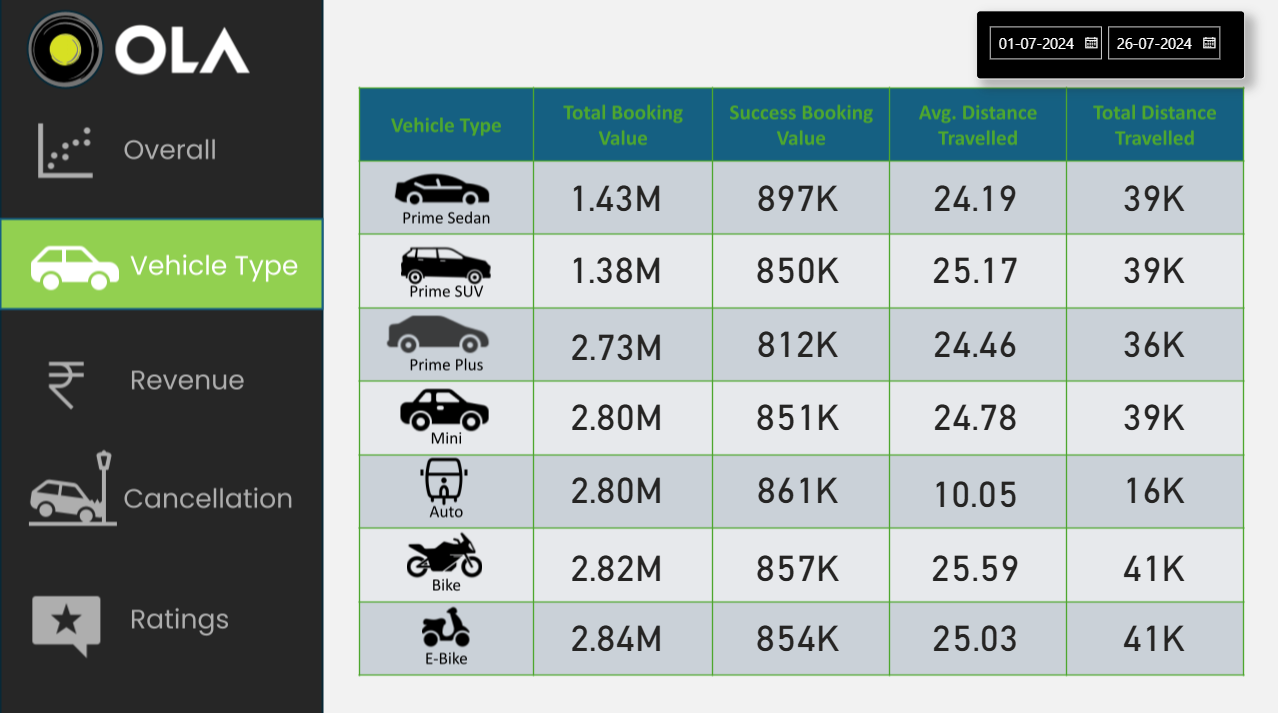

Layout of this report page (visuals, bound fields, positions):
{"tool":"powerbi","page":{"name":"Vehicle Type","canvas":[1280,720],"ordinal":1},"visuals":[{"type":"actionButton","box":[0,337.8,322.1,92.9],"z":0},{"type":"actionButton","box":[1.2,450,322.1,92.9],"z":1000},{"type":"actionButton","box":[1.2,337.8,322.1,92.9],"z":2000},{"type":"actionButton","box":[1.2,446.4,322.1,92.9],"z":3000},{"type":"actionButton","box":[2.4,579.1,320.9,88.1],"z":4000},{"type":"actionButton","box":[0,106.2,320.9,94.1],"z":5000},{"type":"card","fields":{"Values":["Sum(July.Booking_Value)"]},"box":[542.9,168.9,146,62.7],"z":6000},{"type":"card","fields":{"Values":["Sum(July.Booking_Value)"]},"box":[542.9,241.3,146,62.7],"z":7000},{"type":"card","fields":{"Values":["Sum(July.Booking_Value)"]},"box":[543.4,315.6,145.5,68.6],"z":8000},{"type":"card","fields":{"Values":["Sum(July.Booking_Value)"]},"box":[543.4,387,145.5,63.1],"z":9000},{"type":"card","fields":{"Values":["Sum(July.Booking_Value)"]},"box":[543.4,461.1,145.5,63.1],"z":10000},{"type":"card","fields":{"Values":["Sum(July.Booking_Value)"]},"box":[543.4,539.3,145.5,63.1],"z":11000},{"type":"card","fields":{"Values":["Sum(July.Booking_Value)"]},"box":[543.4,603.8,145.5,72.7],"z":12000},{"type":"card","fields":{"Values":["Sum(July.Booking_Value)"]},"box":[724.5,168.8,145.5,63.1],"z":13000},{"type":"card","fields":{"Values":["Sum(July.Booking_Value)"]},"box":[724.5,241.5,145.5,63.1],"z":14000},{"type":"card","fields":{"Values":["Sum(July.Booking_Value)"]},"box":[724.5,315.6,145.5,63.1],"z":15000},{"type":"card","fields":{"Values":["Sum(July.Booking_Value)"]},"box":[724.5,387,145.5,63.1],"z":16000},{"type":"card","fields":{"Values":["Sum(July.Booking_Value)"]},"box":[724.5,461.1,145.5,63.1],"z":17000},{"type":"card","fields":{"Values":["Sum(July.Booking_Value)"]},"box":[724.5,539.3,145.5,63.1],"z":18000},{"type":"card","fields":{"Values":["Sum(July.Booking_Value)"]},"box":[724.5,609.3,145.5,63.1],"z":19000},{"type":"card","fields":{"Values":["Avg(July.Ride_Distance)"]},"box":[902.9,168.8,145.5,63.1],"z":20000},{"type":"card","fields":{"Values":["Avg(July.Ride_Distance)"]},"box":[902.9,241.5,145.5,63.1],"z":21000},{"type":"card","fields":{"Values":["Avg(July.Ride_Distance)"]},"box":[902.9,315.6,145.5,63.1],"z":22000},{"type":"card","fields":{"Values":["Avg(July.Ride_Distance)"]},"box":[902.9,387,145.5,63.1],"z":23000},{"type":"card","fields":{"Values":["Avg(July.Ride_Distance)"]},"box":[902.9,465.2,145.5,63.1],"z":24000},{"type":"card","fields":{"Values":["Avg(July.Ride_Distance)"]},"box":[902.9,539.3,145.5,63.1],"z":25000},{"type":"card","fields":{"Values":["Avg(July.Ride_Distance)"]},"box":[902.9,609.3,145.5,63.1],"z":26000},{"type":"card","fields":{"Values":["Sum(July.Ride_Distance)"]},"box":[1081.3,168.8,145.5,63.1],"z":27000},{"type":"card","fields":{"Values":["Sum(July.Ride_Distance)"]},"box":[1081.3,241.5,145.5,63.1],"z":28000},{"type":"card","fields":{"Values":["Sum(July.Ride_Distance)"]},"box":[1081.3,315.6,145.5,63.1],"z":29000},{"type":"card","fields":{"Values":["Sum(July.Ride_Distance)"]},"box":[1081.3,387,145.5,63.1],"z":30000},{"type":"card","fields":{"Values":["Sum(July.Ride_Distance)"]},"box":[1081.3,461.1,145.5,63.1],"z":31000},{"type":"card","fields":{"Values":["Sum(July.Ride_Distance)"]},"box":[1081.3,539.3,145.5,63.1],"z":32000},{"type":"card","fields":{"Values":["Sum(July.Ride_Distance)"]},"box":[1081.3,609.3,145.5,63.1],"z":33000},{"type":"slicer","title":"Date","fields":{"Values":["July.Date"]},"box":[975.6,12.3,269,68.6],"z":35000}]}

Visuals, with their boxes on the page's 1280x720 design canvas (x1, y1, x2, y2). These are canvas units, not pixel positions in the 1278x713 screenshot, which may show the page scaled, cropped or inside an application window:
actionButton: <region>0, 338, 322, 431</region>
actionButton: <region>1, 450, 323, 543</region>
actionButton: <region>1, 338, 323, 431</region>
actionButton: <region>1, 446, 323, 539</region>
actionButton: <region>2, 579, 323, 667</region>
actionButton: <region>0, 106, 321, 200</region>
card - Sum(July.Booking_Value): <region>543, 169, 689, 232</region>
card - Sum(July.Booking_Value): <region>543, 241, 689, 304</region>
card - Sum(July.Booking_Value): <region>543, 316, 689, 384</region>
card - Sum(July.Booking_Value): <region>543, 387, 689, 450</region>
card - Sum(July.Booking_Value): <region>543, 461, 689, 524</region>
card - Sum(July.Booking_Value): <region>543, 539, 689, 602</region>
card - Sum(July.Booking_Value): <region>543, 604, 689, 676</region>
card - Sum(July.Booking_Value): <region>724, 169, 870, 232</region>
card - Sum(July.Booking_Value): <region>724, 242, 870, 305</region>
card - Sum(July.Booking_Value): <region>724, 316, 870, 379</region>
card - Sum(July.Booking_Value): <region>724, 387, 870, 450</region>
card - Sum(July.Booking_Value): <region>724, 461, 870, 524</region>
card - Sum(July.Booking_Value): <region>724, 539, 870, 602</region>
card - Sum(July.Booking_Value): <region>724, 609, 870, 672</region>
card - Avg(July.Ride_Distance): <region>903, 169, 1048, 232</region>
card - Avg(July.Ride_Distance): <region>903, 242, 1048, 305</region>
card - Avg(July.Ride_Distance): <region>903, 316, 1048, 379</region>
card - Avg(July.Ride_Distance): <region>903, 387, 1048, 450</region>
card - Avg(July.Ride_Distance): <region>903, 465, 1048, 528</region>
card - Avg(July.Ride_Distance): <region>903, 539, 1048, 602</region>
card - Avg(July.Ride_Distance): <region>903, 609, 1048, 672</region>
card - Sum(July.Ride_Distance): <region>1081, 169, 1227, 232</region>
card - Sum(July.Ride_Distance): <region>1081, 242, 1227, 305</region>
card - Sum(July.Ride_Distance): <region>1081, 316, 1227, 379</region>
card - Sum(July.Ride_Distance): <region>1081, 387, 1227, 450</region>
card - Sum(July.Ride_Distance): <region>1081, 461, 1227, 524</region>
card - Sum(July.Ride_Distance): <region>1081, 539, 1227, 602</region>
card - Sum(July.Ride_Distance): <region>1081, 609, 1227, 672</region>
"Date" slicer: <region>976, 12, 1245, 81</region>
